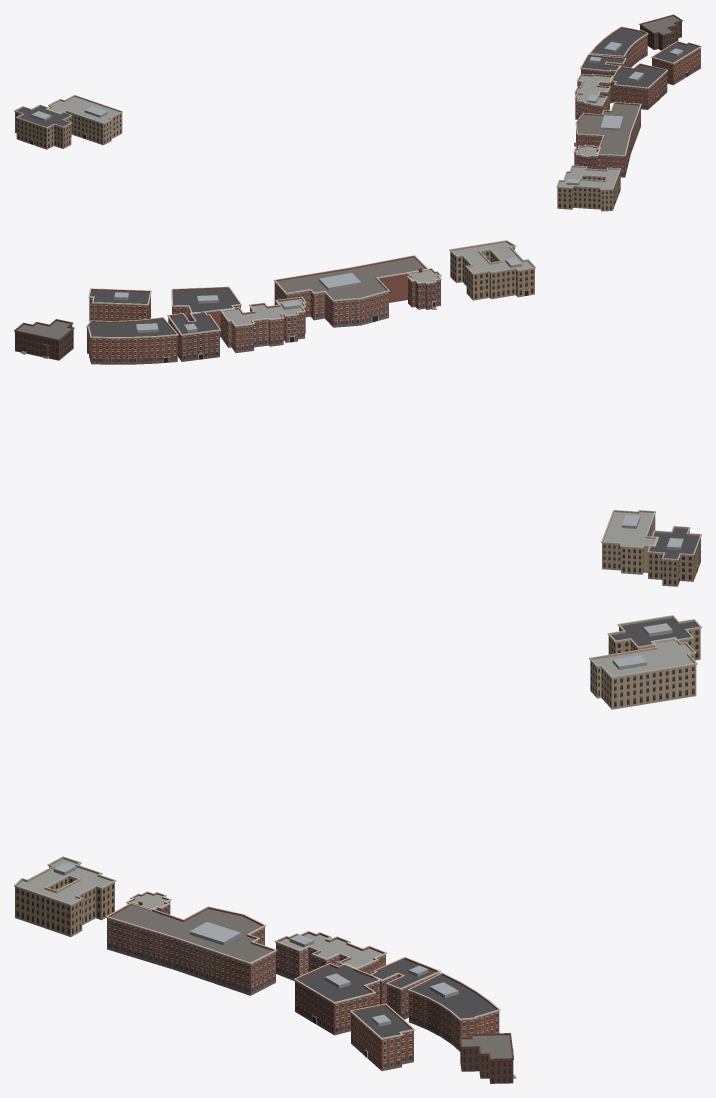
File: buildings-fenway.glb
3 views of the same model, one above another, from view 1: azimuth 30°, elevation 25°; view 2: azimuth 150°, elevation 25°; view 3: azimuth 270°, elevation 25° (orthographic). The views are drawn at different scales.
Parts seen in each view (by area): view 1: buildings-fenway; view 2: buildings-fenway; view 3: buildings-fenway.
Boxes of the visible parts, x1,y1,x2,y2 form: buildings-fenway: [14, 14, 701, 211]; buildings-fenway: [14, 240, 701, 586]; buildings-fenway: [14, 615, 701, 1083].
Bounding box in the file's own units: 456 × 17.2 × 304.
Materials: 20 (4 with a texture image).
